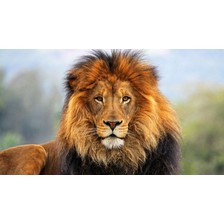lion: (0, 48, 183, 175)
